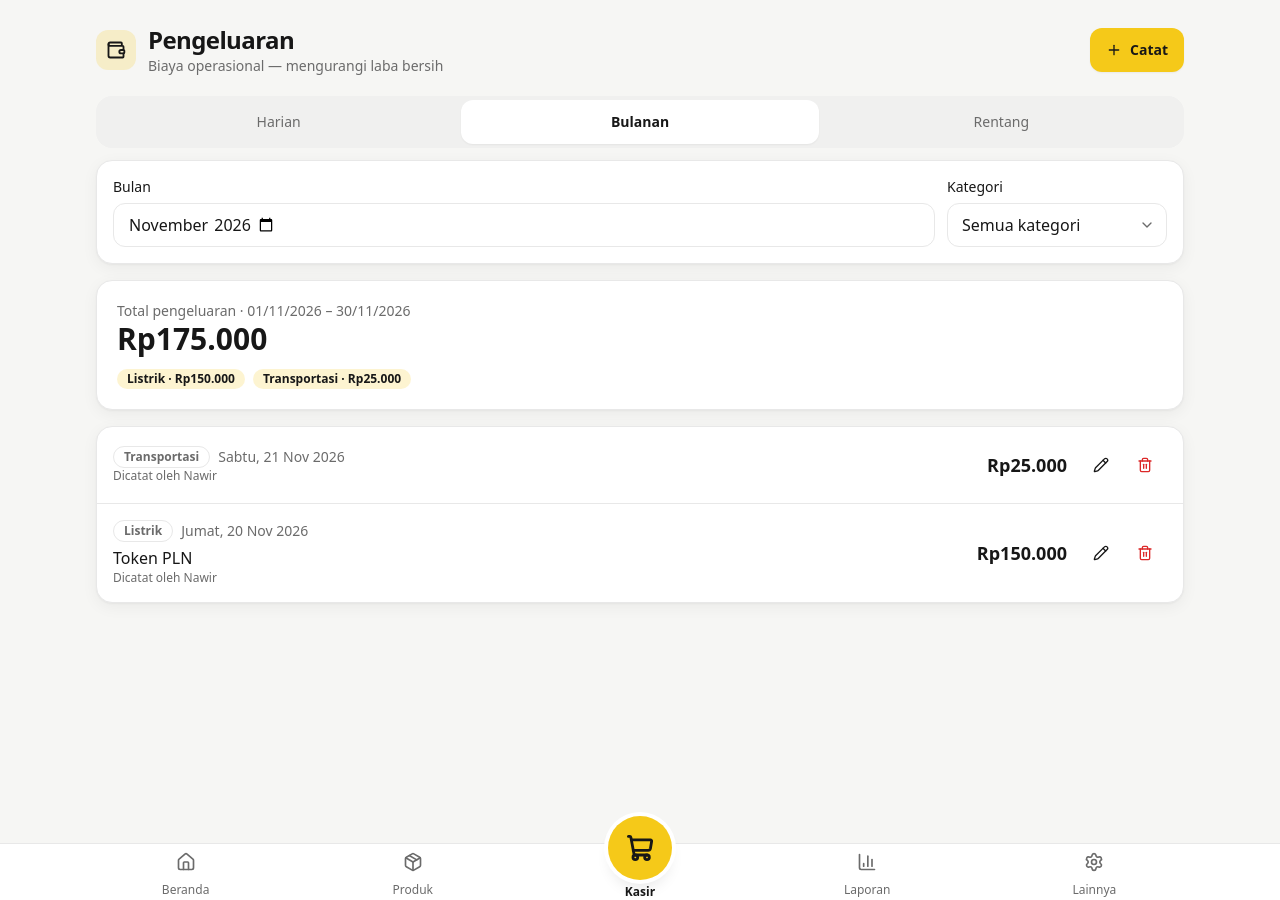
Test: Halaman Pengeluaran › ubah dan hapus (soft delete) dengan konfirmasi
Click the 2nd button named "Ubah pengeluaran" at (1101, 553), box [1079,531,1123,575]
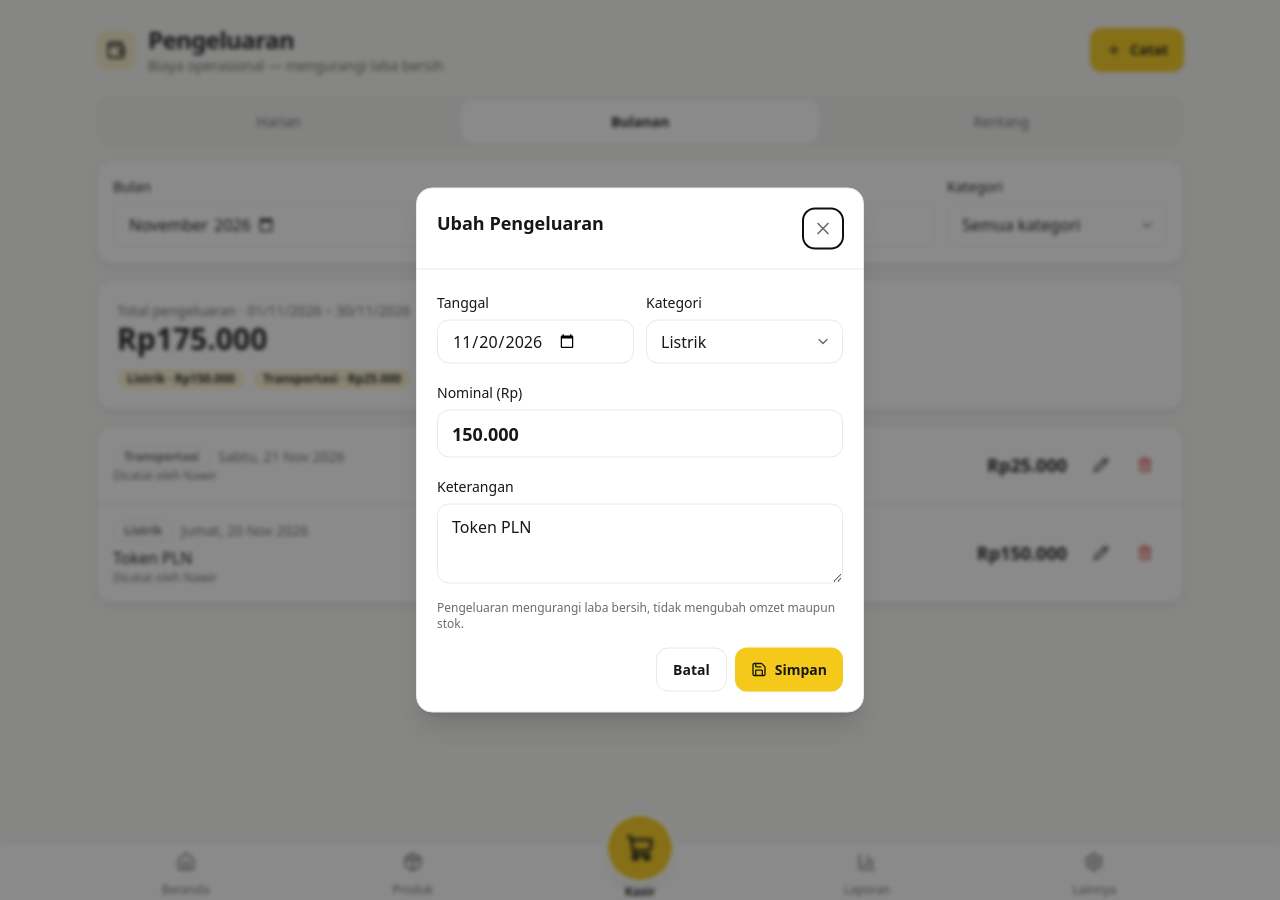
expect the field labelled "Nominal (Rp)" holds "150.000": met
Type "175.000" into the field labelled "Nominal (Rp)" at (640, 434), box [437,410,843,458]
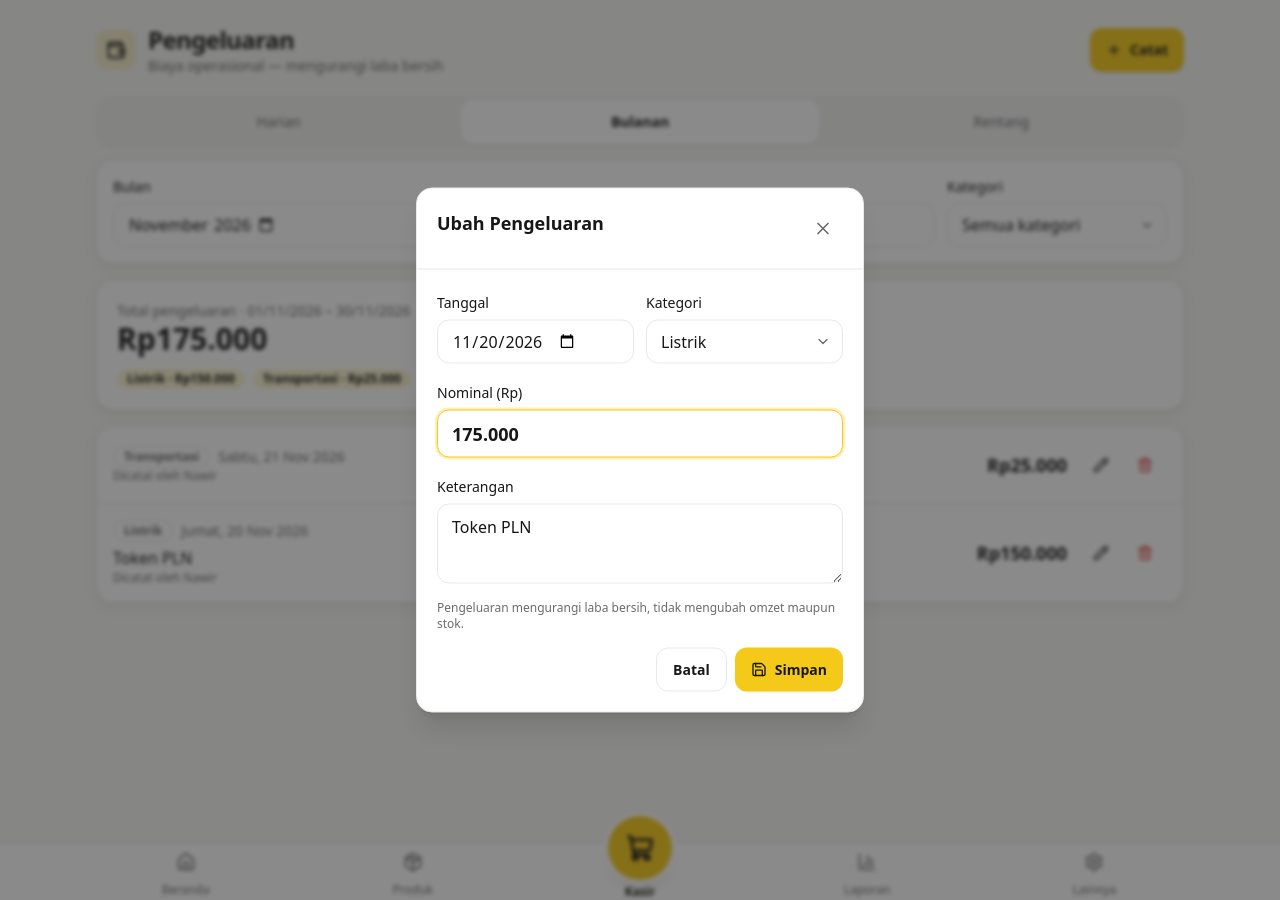
Click the button "Simpan" at (789, 670), box [735,648,843,692]
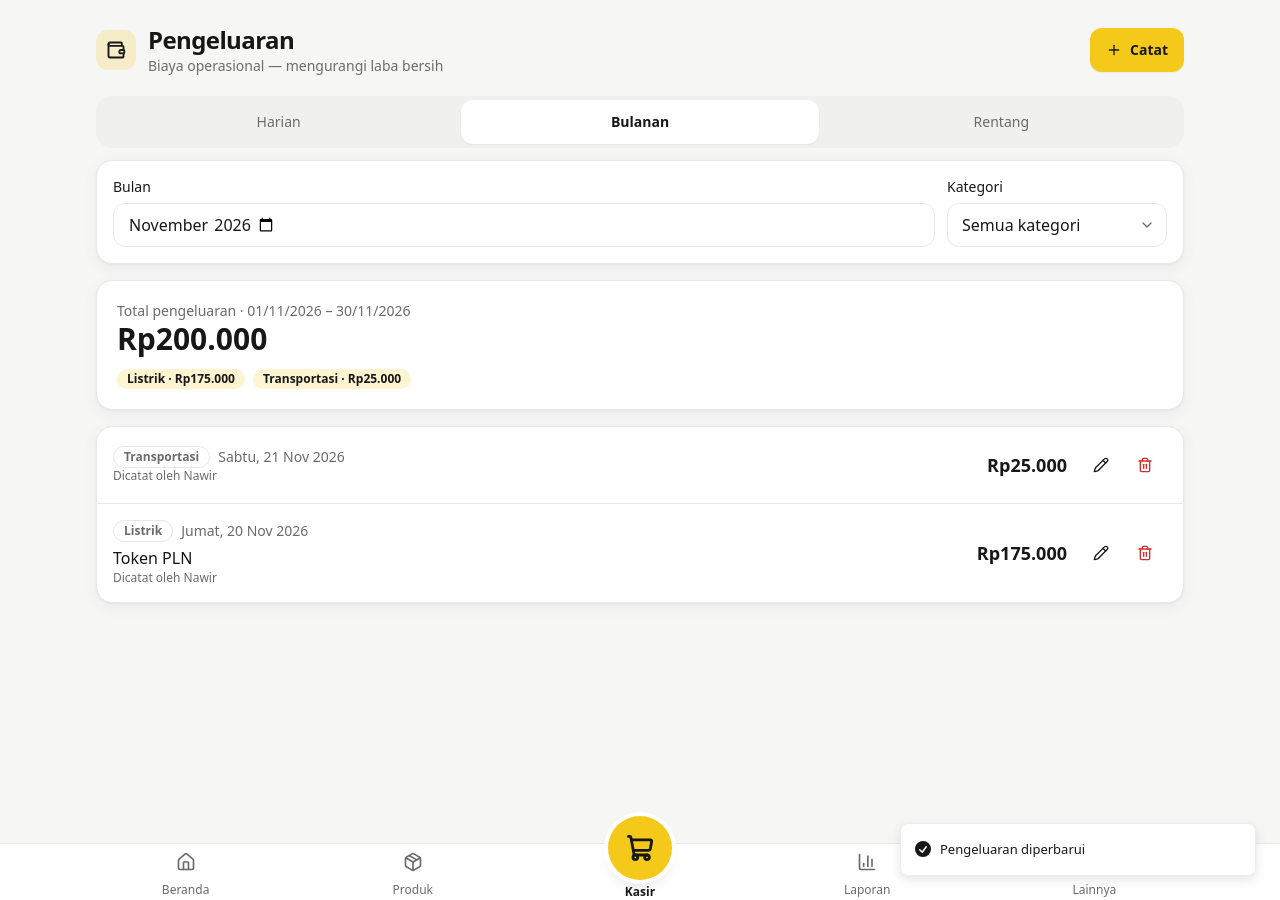
expect the dialog is gone: met
Click the 2nd button named "Hapus pengeluaran" at (1145, 553), box [1123,531,1167,575]
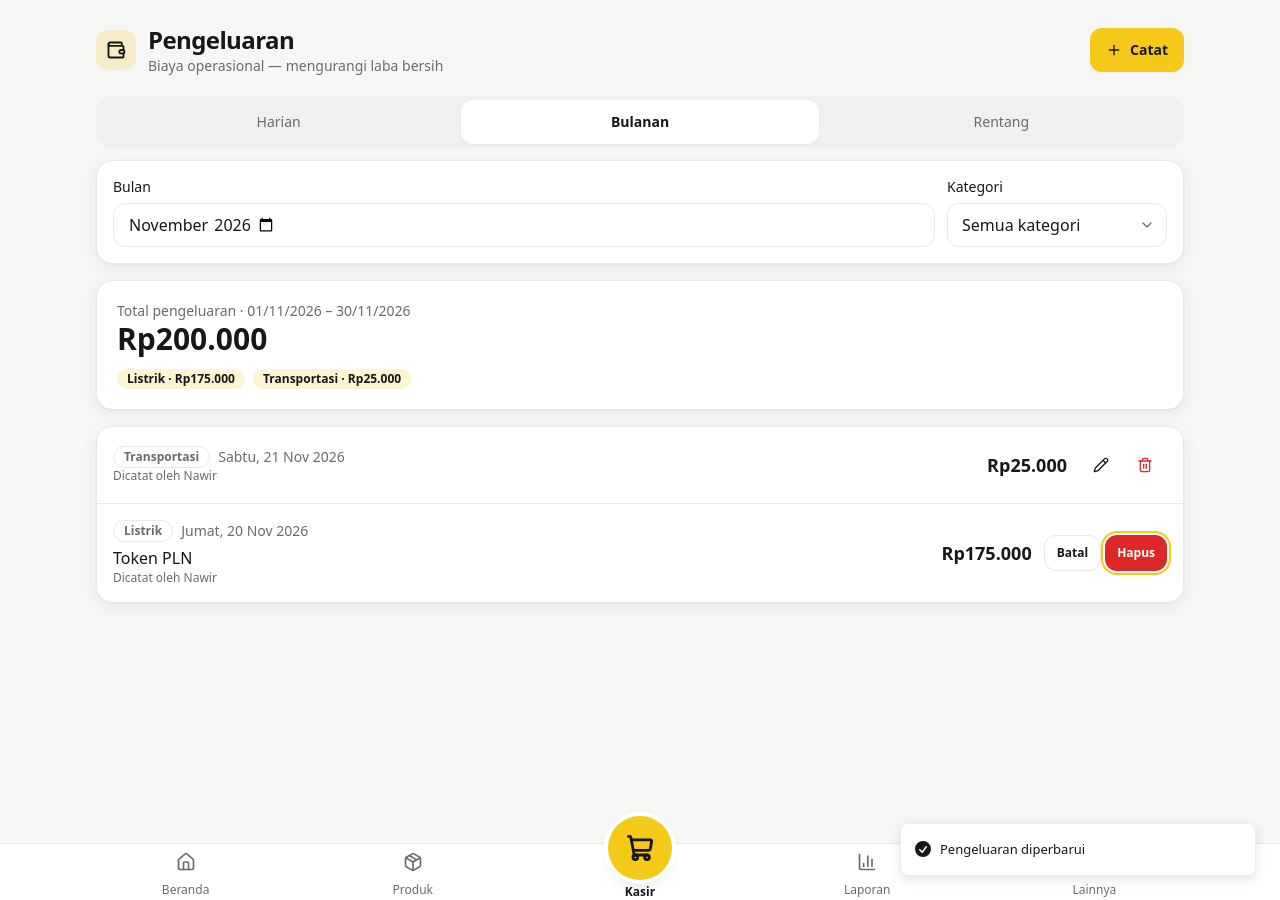
Click the button "Hapus" at (1136, 553), box [1105,535,1167,571]
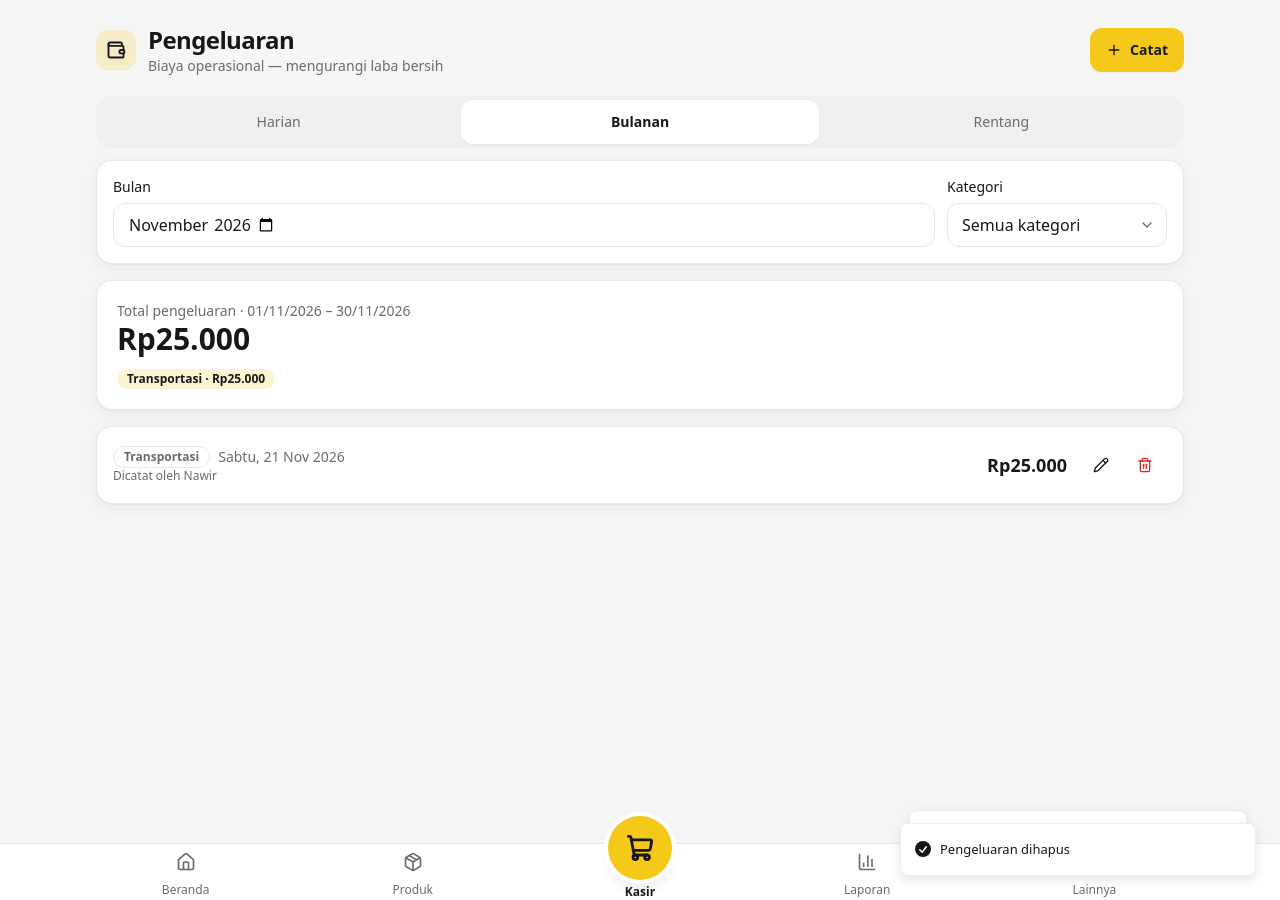
expect the text "Token PLN" is gone: met
